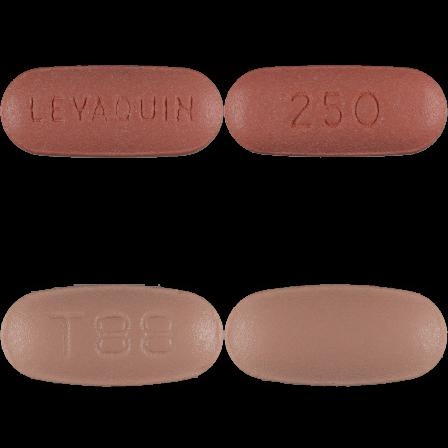67296-0586: (0, 0, 224, 224)
